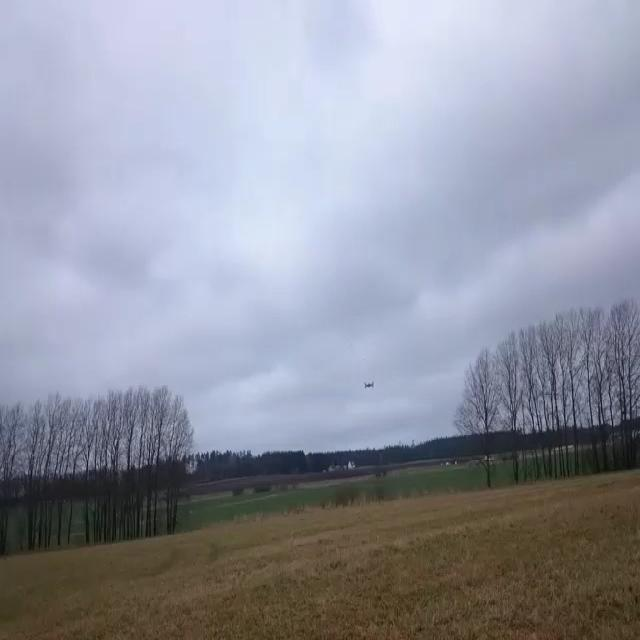drone: (363, 381, 375, 389)
